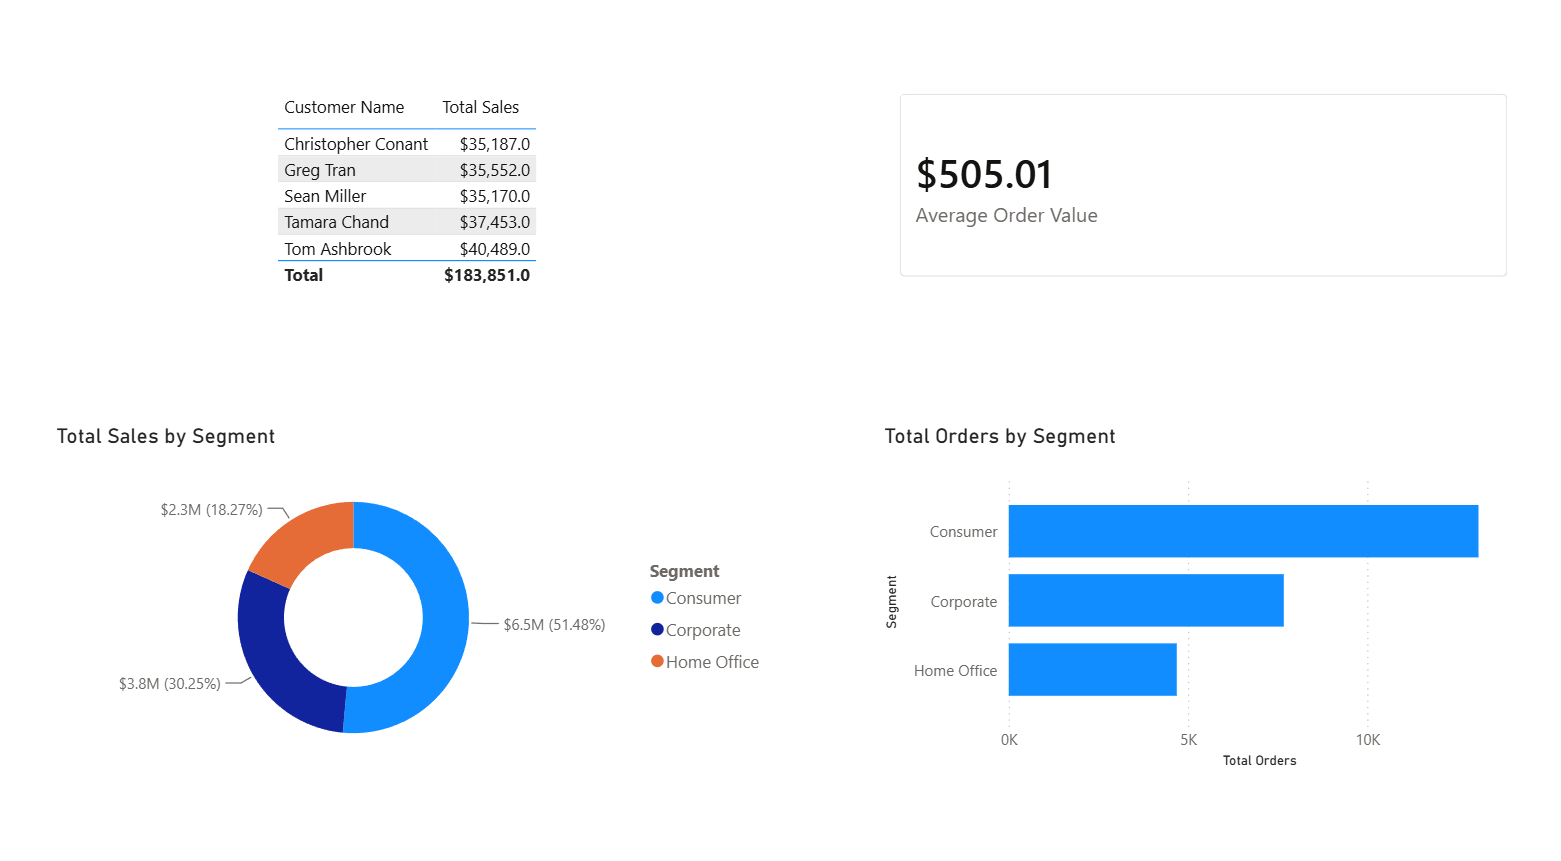

The page's visual inventory and layout, read from the dashboard file:
{"tool":"powerbi","page":{"name":"Customer Insights","canvas":[1280,720],"ordinal":2},"visuals":[{"type":"tableEx","fields":{"Values":["Customer.Customer Name","DAX_Measures.Total Sales"]},"box":[235.8,86.2,231,168.8],"z":0},{"type":"donutChart","fields":{"Category":["Customer.Segment"],"Y":["DAX_Measures.Total Sales"]},"box":[59.9,354.3,580.6,280.1],"z":1000},{"type":"cardVisual","fields":{"Data":["DAX_Measures.Average Order Value"]},"box":[720.6,74.2,519.5,180.7],"z":2000},{"type":"clusteredBarChart","fields":{"Category":["Customer.Segment"],"Y":["DAX_Measures.Total Orders"]},"box":[720.6,354.3,519.5,280.1],"z":3000}]}

Visuals, with their boxes in screenshot pixels (x1, y1, x2, y2), scaled from the page's 1280x720 canvas onto the 1561x861 screenshot:
tableEx - Customer.Customer Name x DAX_Measures.Total Sales: <region>288, 103, 569, 305</region>
donutChart - Customer.Segment x DAX_Measures.Total Sales: <region>73, 424, 781, 759</region>
cardVisual - DAX_Measures.Average Order Value: <region>879, 89, 1512, 305</region>
clusteredBarChart - Customer.Segment x DAX_Measures.Total Orders: <region>879, 424, 1512, 759</region>
